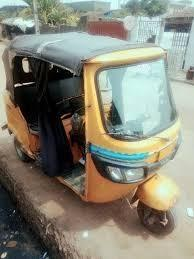keke: (4, 29, 191, 248)
